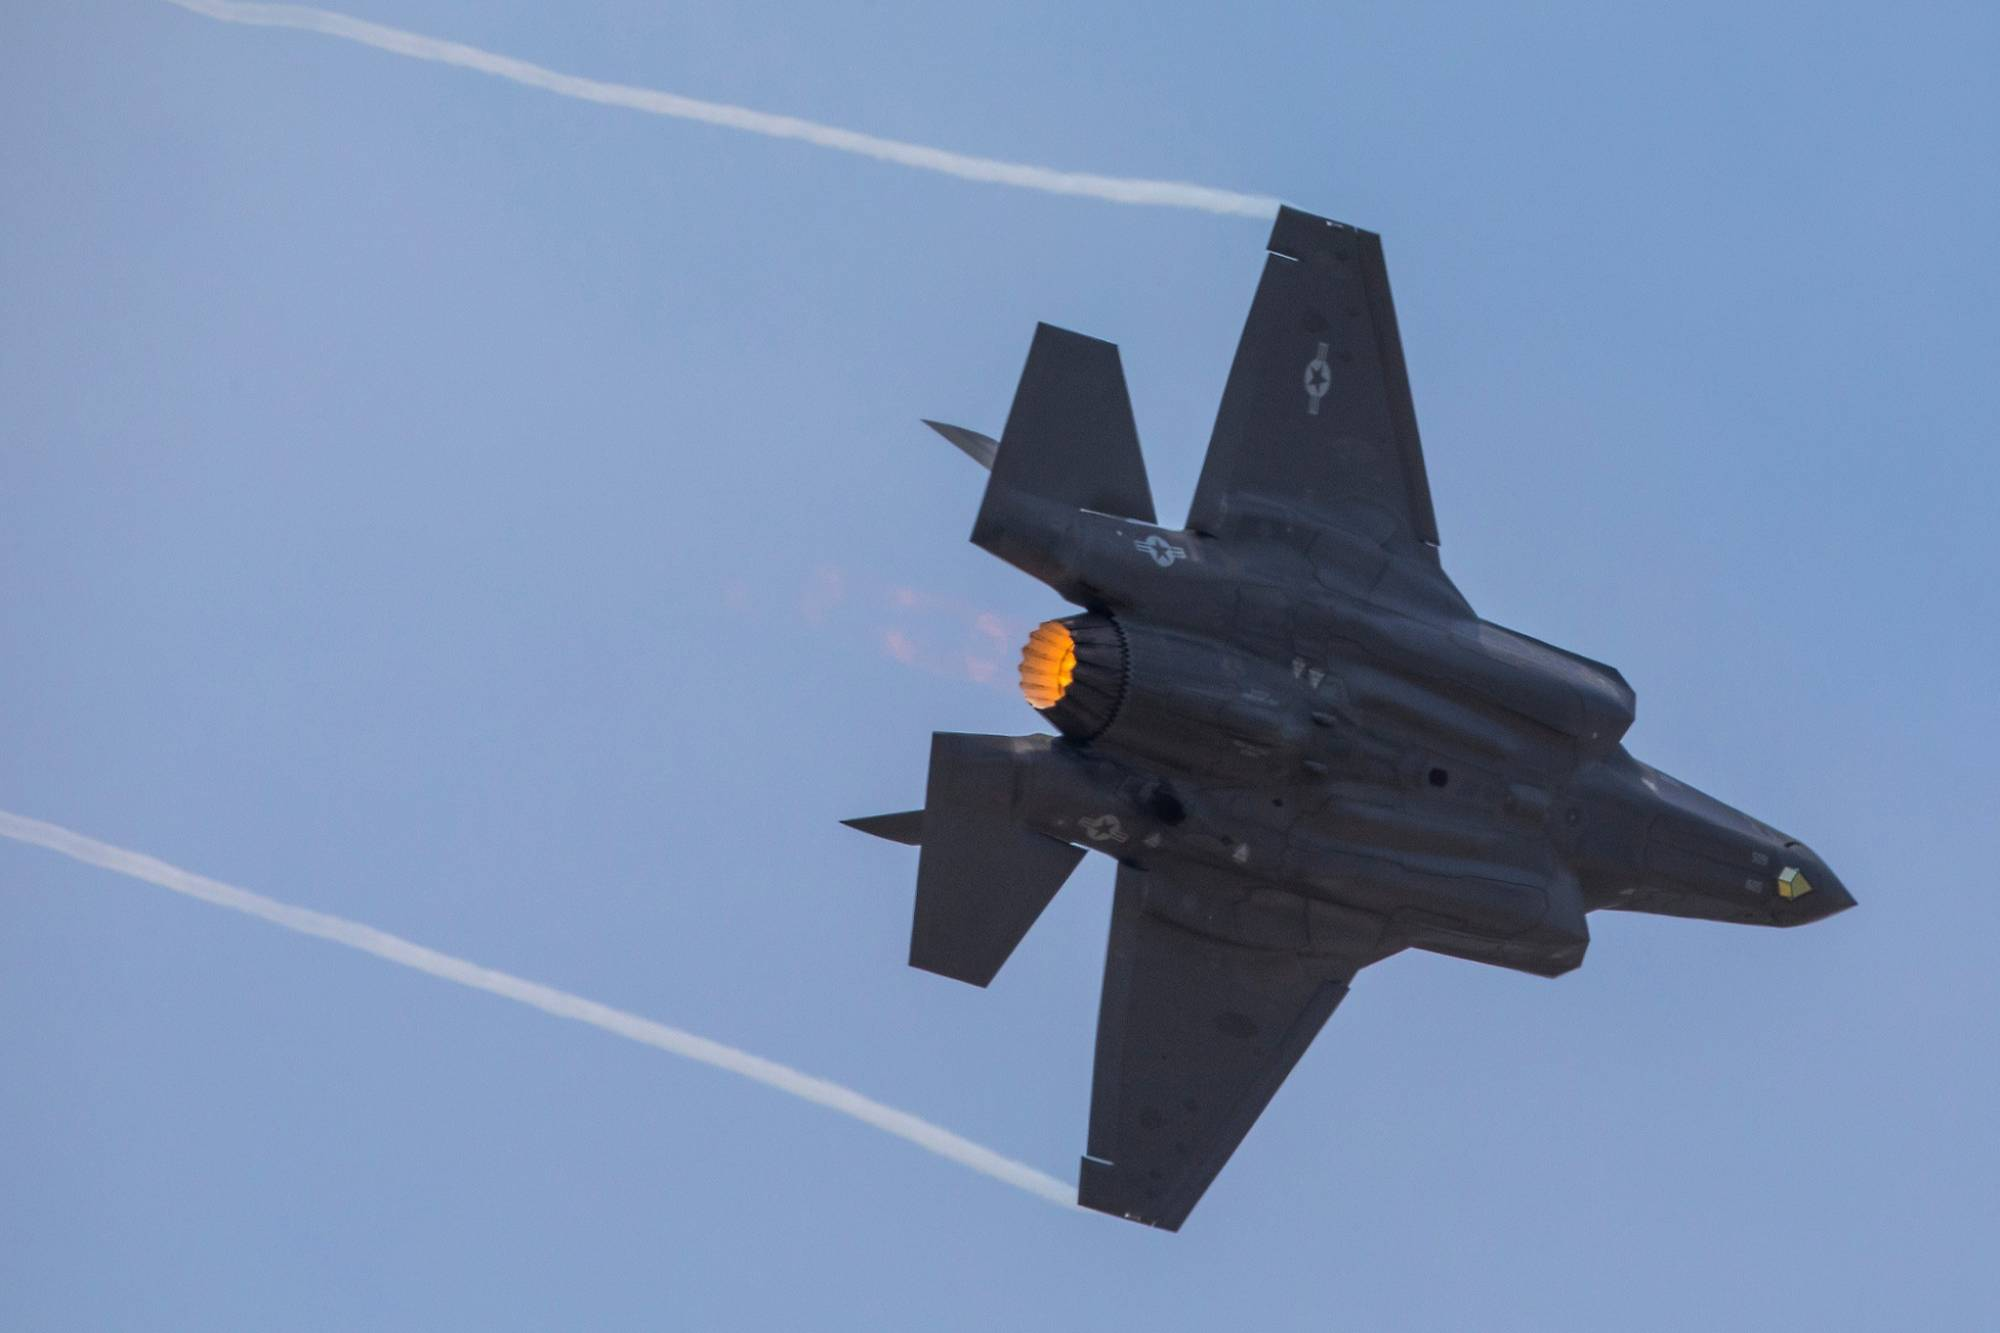F-35 Lightning: (796, 62, 1915, 1262)
